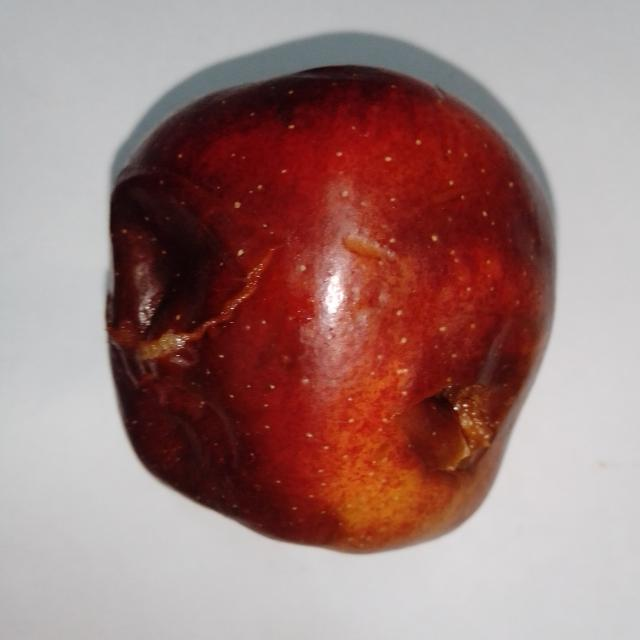apple: (108, 67, 554, 551)
